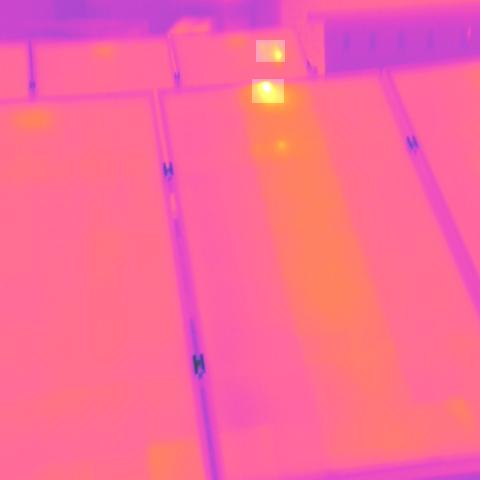fault: (252, 79, 284, 103), (256, 40, 285, 62)
